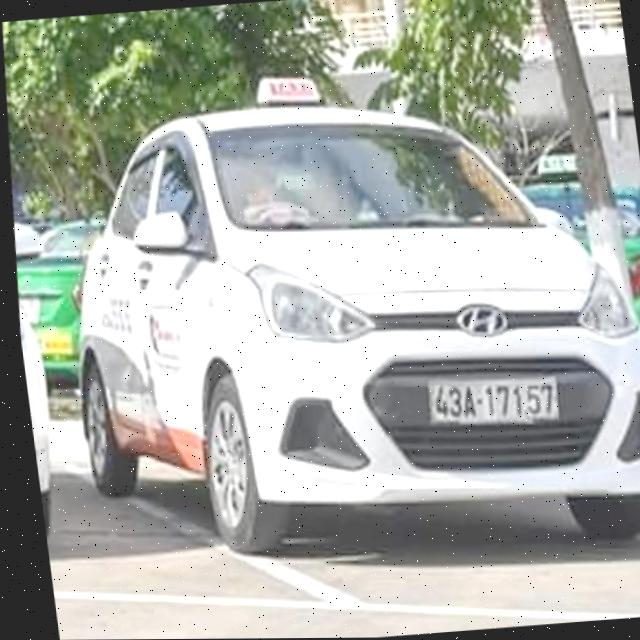car: (35, 69, 640, 601)
plate: (412, 363, 572, 439)
